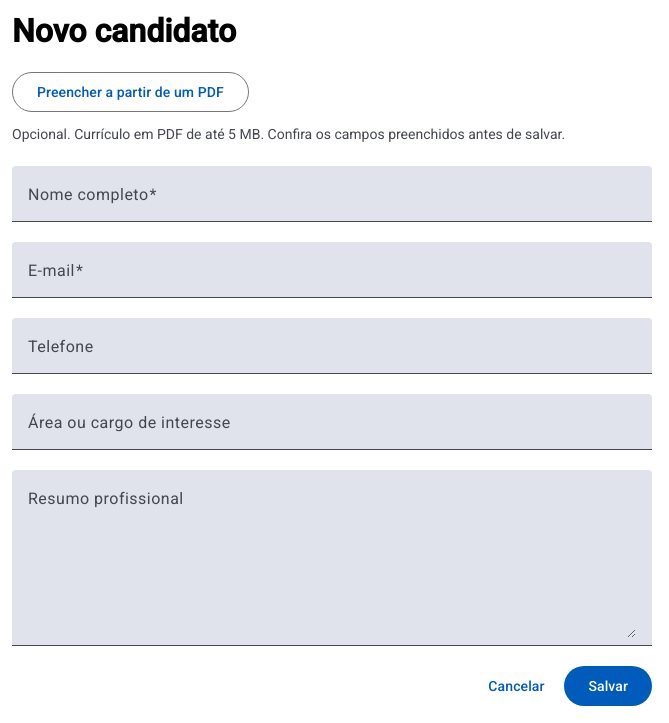
it: CadastroCandidatoComponent › validação › exige ao menos 2 caracteres no nome, sem contar os espaços das pontas
Step 1. Type " M " into the field labelled "Nome completo" → (332, 202), box [28,190,636,214]
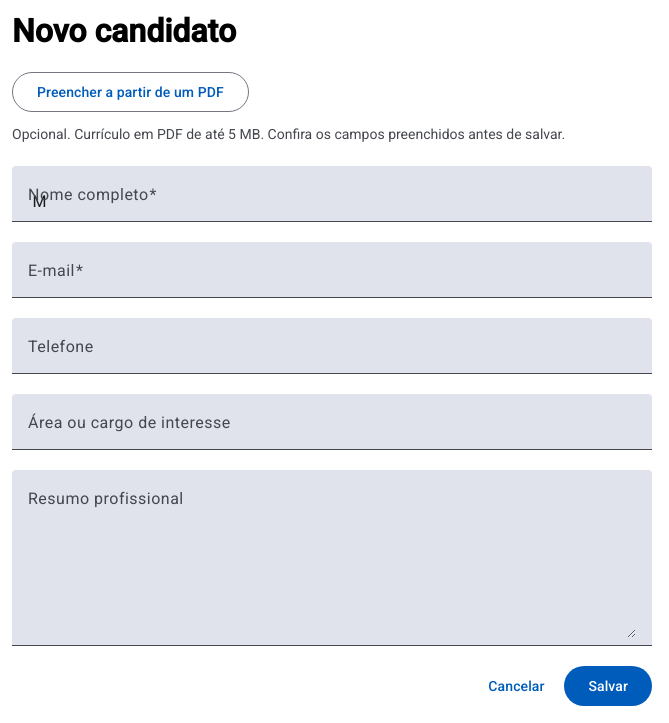
Step 2. Type "maria@exemplo.com" into the field labelled "E-mail" → (332, 278), box [28,266,636,290]
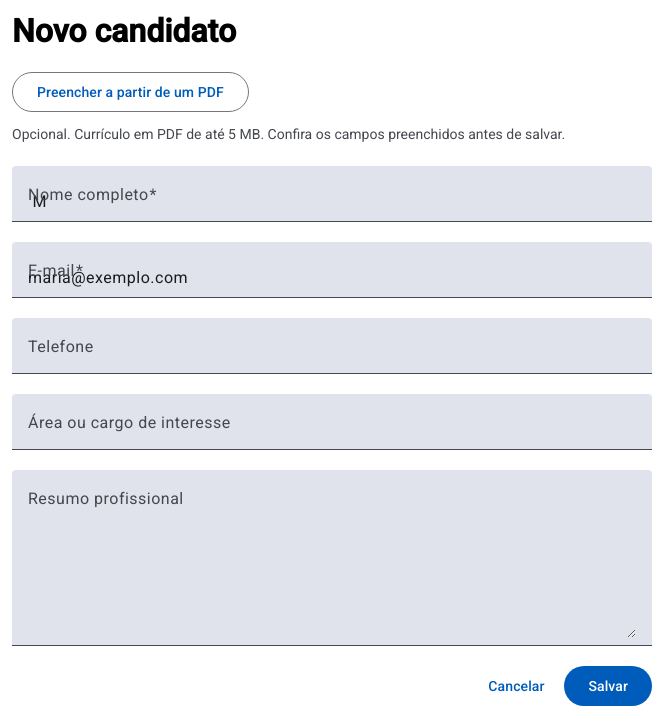
Step 3. Submit the form
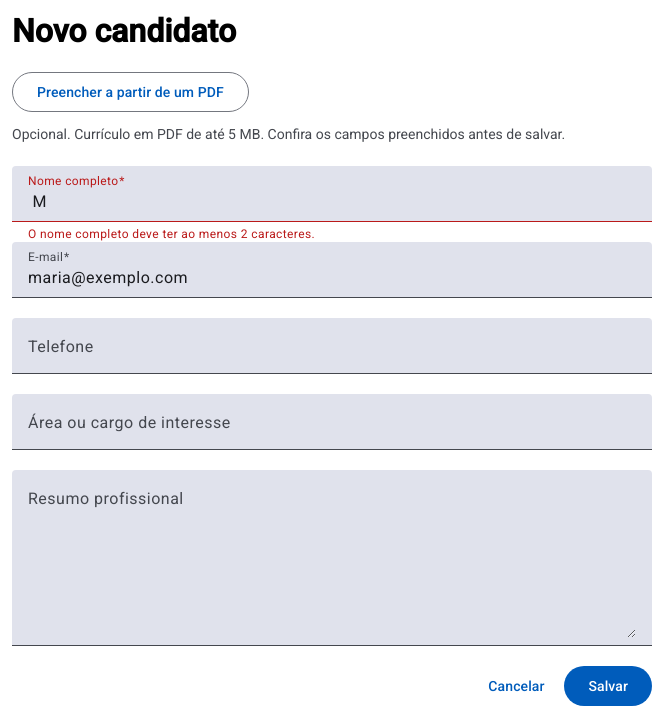
Now the text "O nome completo deve ter ao menos 2 caracteres." is shown, box [28,227,315,241]
